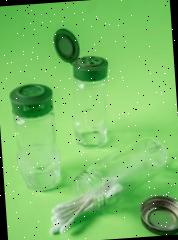glass: (4, 19, 176, 217)
